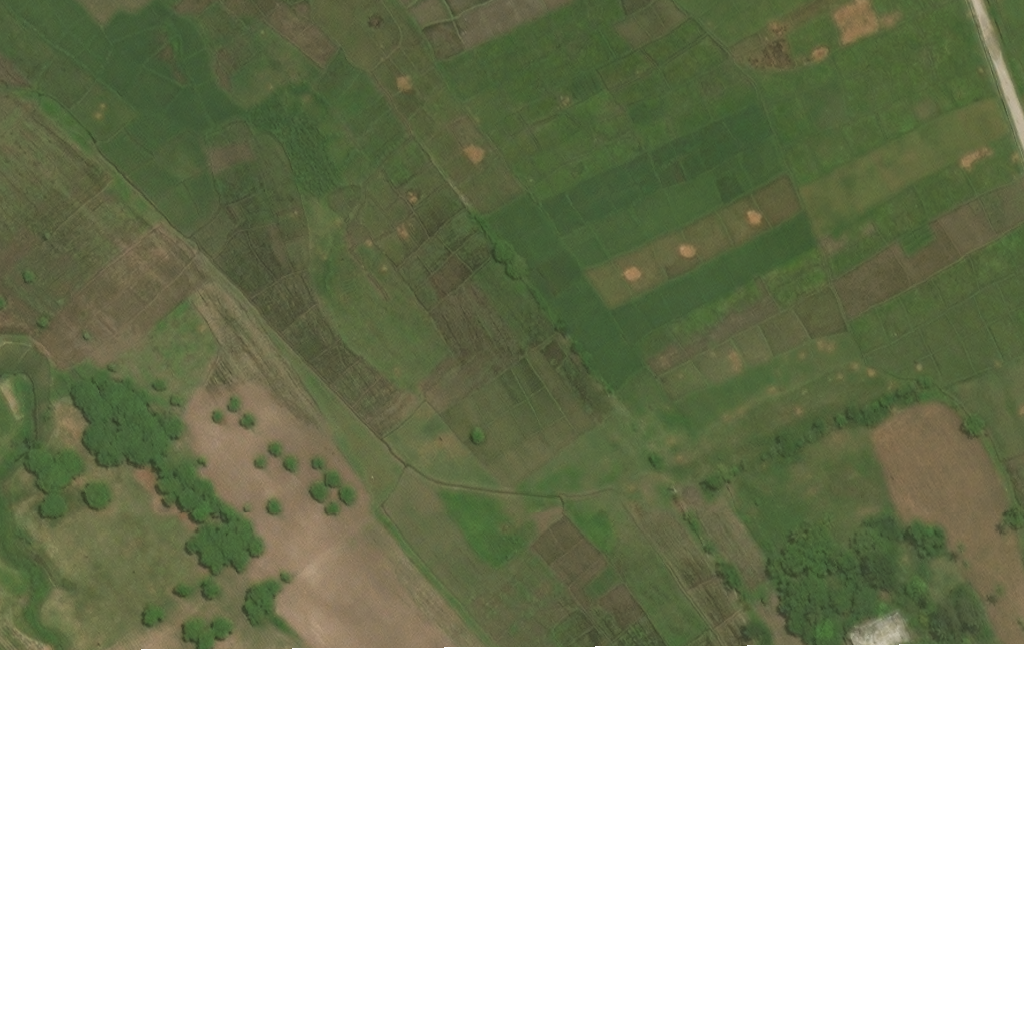minor_damage: (845, 608, 914, 636)
